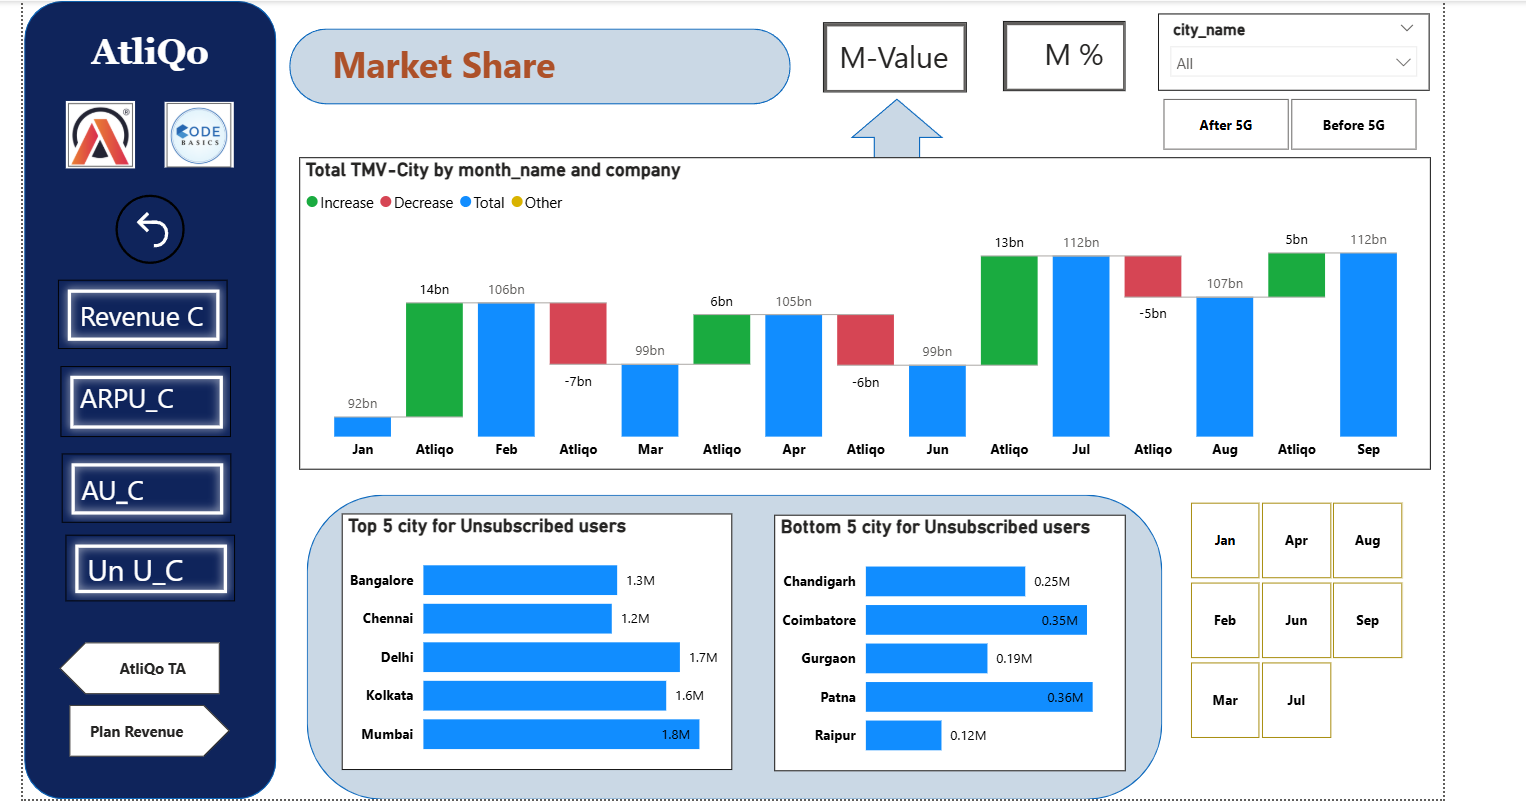

The dashboard page shown, as its layout file describes it:
{"tool":"powerbi","page":{"name":"Market Share","canvas":[1280,720],"ordinal":3},"visuals":[{"type":"clusteredBarChart","title":"Bottom 5 city for Unsubscribed users","fields":{"Category":["dim_cities.city_name"],"Y":["Revenue Atliqo.Unsubscribed users"]},"box":[676.7,463.1,316.5,231.6],"z":0,"group":"g1"},{"type":"shape","box":[746.2,87.5,83.8,71.2],"z":1000},{"type":"clusteredBarChart","title":"Top 5 city for Unsubscribed users","fields":{"Category":["dim_cities.city_name"],"Y":["Revenue Atliqo.Unsubscribed users"]},"box":[287.3,462.1,352.3,231.6],"z":1000,"group":"g1"},{"type":"shape","box":[255.5,445,771.3,275],"z":2000},{"type":"group","id":"g1","title":"UU","box":[287.3,462.1,706.6,233.5],"z":6000},{"type":"group","id":"g2","title":"Title","box":[1.5,0,1267.5,720],"z":7000},{"type":"shape","box":[1.5,0,227.4,720],"z":7500,"group":"g2"},{"type":"slicer","fields":{"Values":["dim_cities.city_name"]},"box":[1023.2,11,244.5,69.7],"z":8000},{"type":"waterfallChart","fields":{"Y":["Table.Total TMV-City"],"Category":["dim_date.month_name"],"Breakdown":["fact_atliqo_metrics.company"]},"box":[249,141.2,1020,281.2],"z":8500,"group":"g2"},{"type":"actionButton","box":[32.1,251.8,153,62.3],"z":9000,"group":"g2"},{"type":"slicer","fields":{"Values":["dim_date.before/after_5g"]},"box":[1001.2,81.2,278.8,60],"z":10000},{"type":"actionButton","box":[34,328.8,153.8,63.8],"z":10000,"group":"g2"},{"type":"actionButton","box":[721.2,18.7,129.6,63.6],"z":11000,"group":"g3"},{"type":"actionButton","box":[35.7,408.3,153,62.3],"z":11000,"group":"g2"},{"type":"slicer","fields":{"Values":["dim_date.month_name"]},"box":[1026.8,445,240.8,226.1],"z":11000},{"type":"group","id":"g3","title":"Buttons","box":[721.2,17.5,272.6,64.8],"z":12000},{"type":"actionButton","box":[883.8,17.5,110,63.6],"z":12000,"group":"g3"},{"type":"actionButton","box":[38.2,481.6,153,59.9],"z":12000,"group":"g2"},{"type":"textbox","box":[898.4,23.6,80.7,53.8],"z":13000,"group":"g3"},{"type":"shape","box":[83.1,174.8,62.3,62.3],"z":13000},{"type":"textbox","box":[52.8,489,106.3,46.5],"z":13000,"group":"g2"},{"type":"actionButton","box":[95.3,184.6,50.1,42.8],"z":14000},{"type":"textbox","box":[35.7,419.3,91.7,50.1],"z":14000,"group":"g2"},{"type":"shape","box":[239.6,24.4,452.3,68.5],"z":15000},{"type":"textbox","box":[723.3,26.7,145.5,45.2],"z":15000,"group":"g3"},{"type":"textbox","box":[46.7,337.4,97.8,46.5],"z":15000,"group":"g2"},{"type":"textbox","box":[273.8,30.6,391.2,57.5],"z":16000},{"type":"textbox","box":[46.7,262.8,129.6,42.8],"z":16000,"group":"g2"},{"type":"pageNavigator","box":[41.2,634,145.5,47],"z":17000},{"type":"pageNavigator","box":[32.9,577.7,145,47],"z":18000},{"type":"image","box":[33.8,84.4,72,72.4],"z":19000},{"type":"image","box":[123,84.4,72,72.4],"z":20000},{"type":"textbox","box":[56.7,22.9,130.3,54.3],"z":21000}]}

Visuals, with their boxes on the page's 1280x720 design canvas (x1, y1, x2, y2). These are canvas units, not pixel positions in the 1526x809 screenshot, which may show the page scaled, cropped or inside an application window:
"Bottom 5 city for Unsubscribed users" clusteredBarChart: region(677, 463, 993, 695)
shape: region(746, 88, 830, 159)
"Top 5 city for Unsubscribed users" clusteredBarChart: region(287, 462, 640, 694)
shape: region(256, 445, 1027, 720)
"UU" group: region(287, 462, 994, 696)
"Title" group: region(2, 0, 1269, 720)
shape: region(2, 0, 229, 720)
slicer - dim_cities.city_name: region(1023, 11, 1268, 81)
waterfallChart - Table.Total TMV-City x dim_date.month_name: region(249, 141, 1269, 422)
actionButton: region(32, 252, 185, 314)
slicer - dim_date.before/after_5g: region(1001, 81, 1280, 141)
actionButton: region(34, 329, 188, 393)
actionButton: region(721, 19, 851, 82)
actionButton: region(36, 408, 189, 471)
slicer - dim_date.month_name: region(1027, 445, 1268, 671)
"Buttons" group: region(721, 18, 994, 82)
actionButton: region(884, 18, 994, 81)
actionButton: region(38, 482, 191, 542)
textbox: region(898, 24, 979, 77)
shape: region(83, 175, 145, 237)
textbox: region(53, 489, 159, 536)
actionButton: region(95, 185, 145, 227)
textbox: region(36, 419, 127, 469)
shape: region(240, 24, 692, 93)
textbox: region(723, 27, 869, 72)
textbox: region(47, 337, 144, 384)
textbox: region(274, 31, 665, 88)
textbox: region(47, 263, 176, 306)
pageNavigator: region(41, 634, 187, 681)
pageNavigator: region(33, 578, 178, 625)
image: region(34, 84, 106, 157)
image: region(123, 84, 195, 157)
textbox: region(57, 23, 187, 77)
